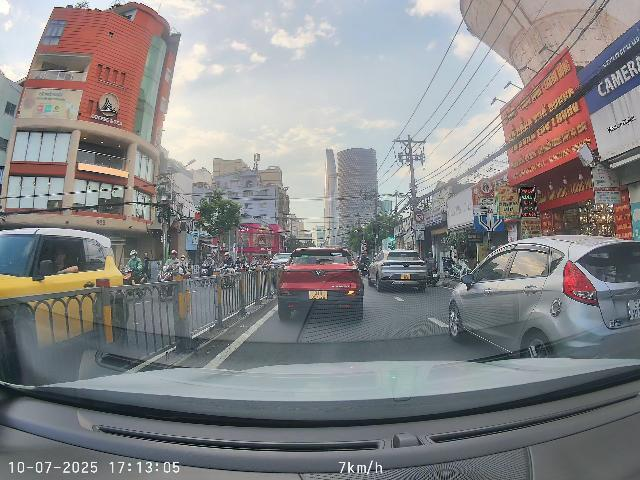103c-cam-oto-re-trai: (415, 212, 425, 223)
124b-cam-oto-quay-dau-xe: (478, 178, 494, 196)
